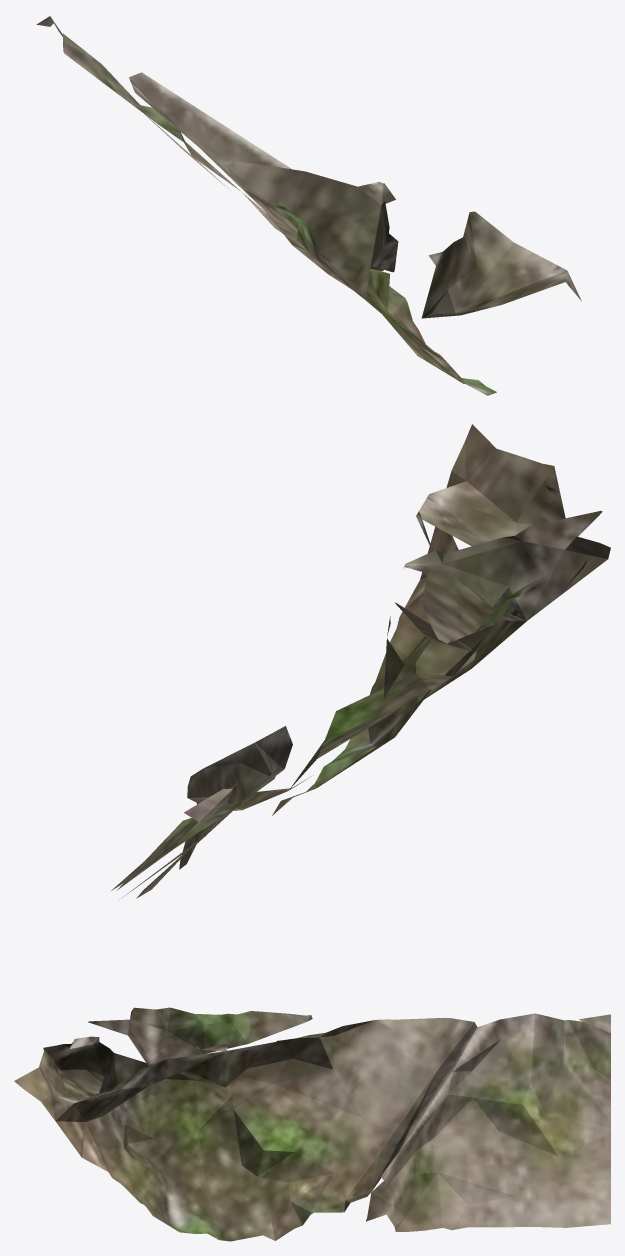
3 views of the same model, one above another, from view 1: azimuth 30°, elevation 25°; view 2: azimuth 150°, elevation 25°; view 3: azimuth 270°, elevation 25° (orthographic). The views are drawn at different scales.
Bounding box in the file's own units: 0.9645 × 0.9798 × 3.31.
1 material, 1 textured.
